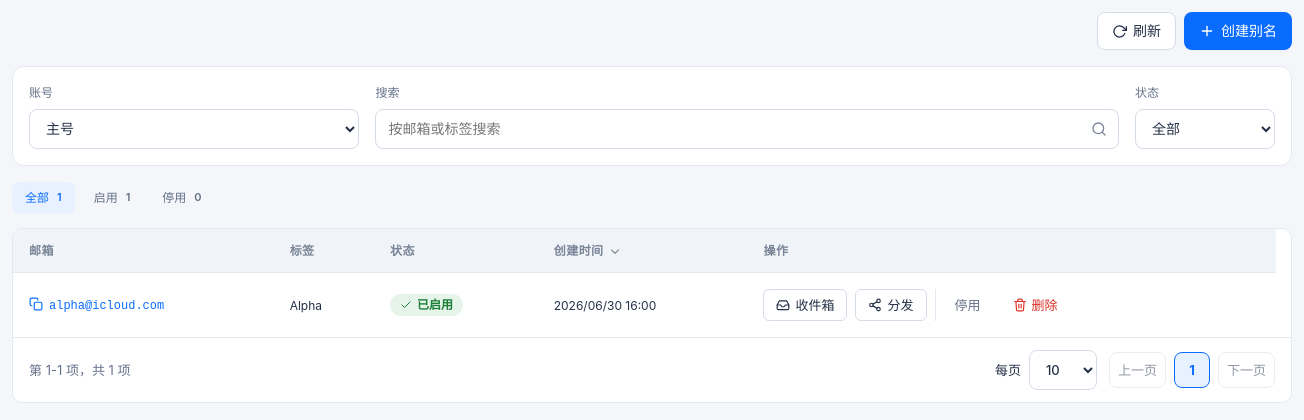
Scenario: AliasesPage › 后台账号刷新不会覆盖用户刚选择的账号
This screenshot has width=1304, height=420.
Select "备用号" in the dropdown labelled "账号": (194, 129) [29,109,360,149]
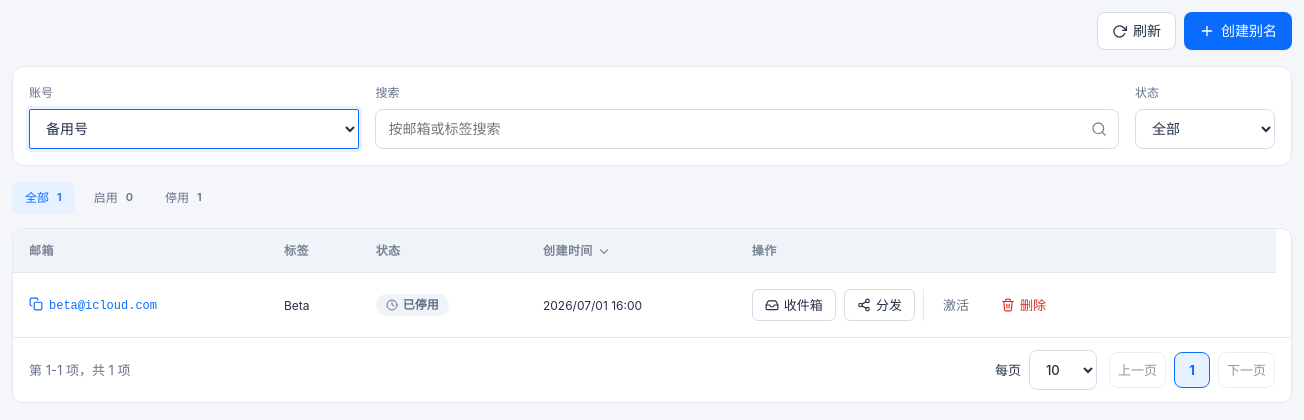
Check: the button "beta@icloud.com" is shown, box [29,297,157,316]
